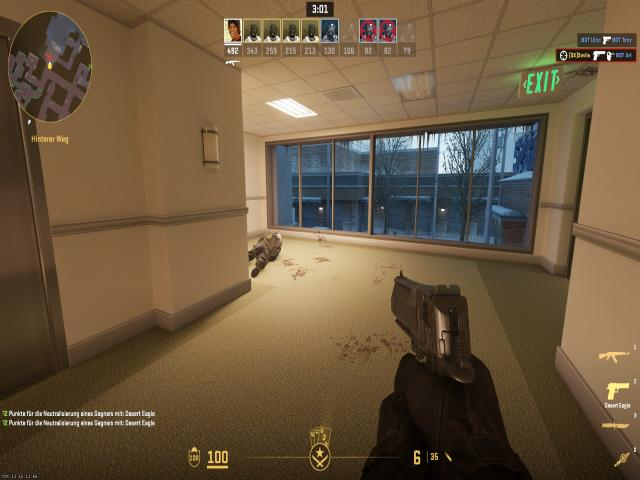Dead: (249, 231, 286, 276)
